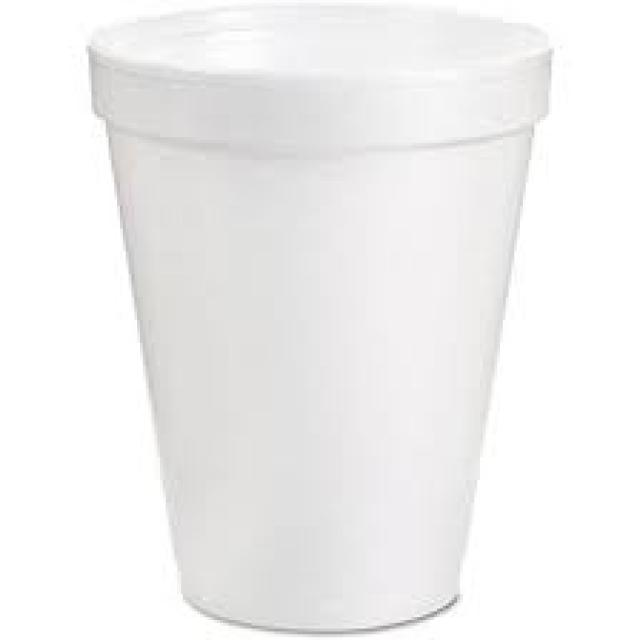styrofoam: (89, 5, 548, 631)
